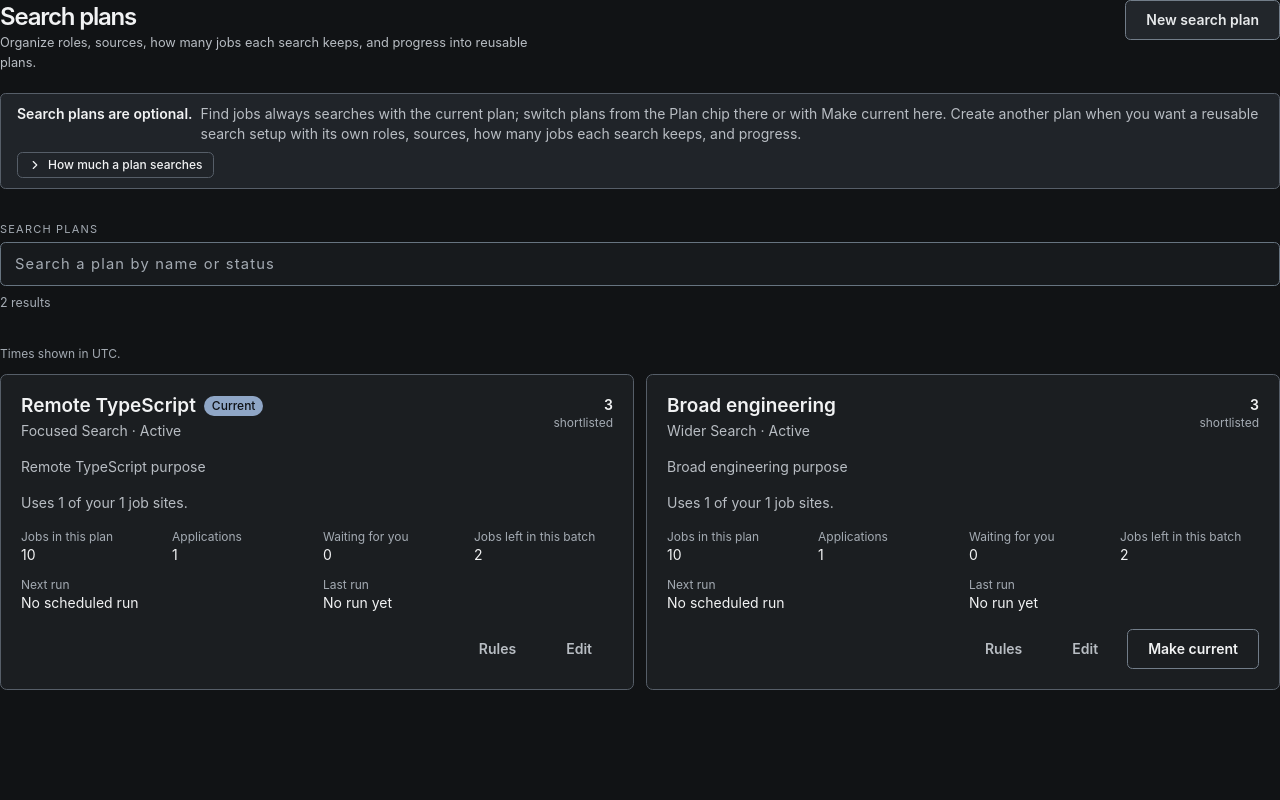
Test: CampaignsScreen › binds the editor to the selected plan when switching between plans
Click the 1st button "Edit" at (579, 649), box [545, 629, 613, 669]
(page scrolled)
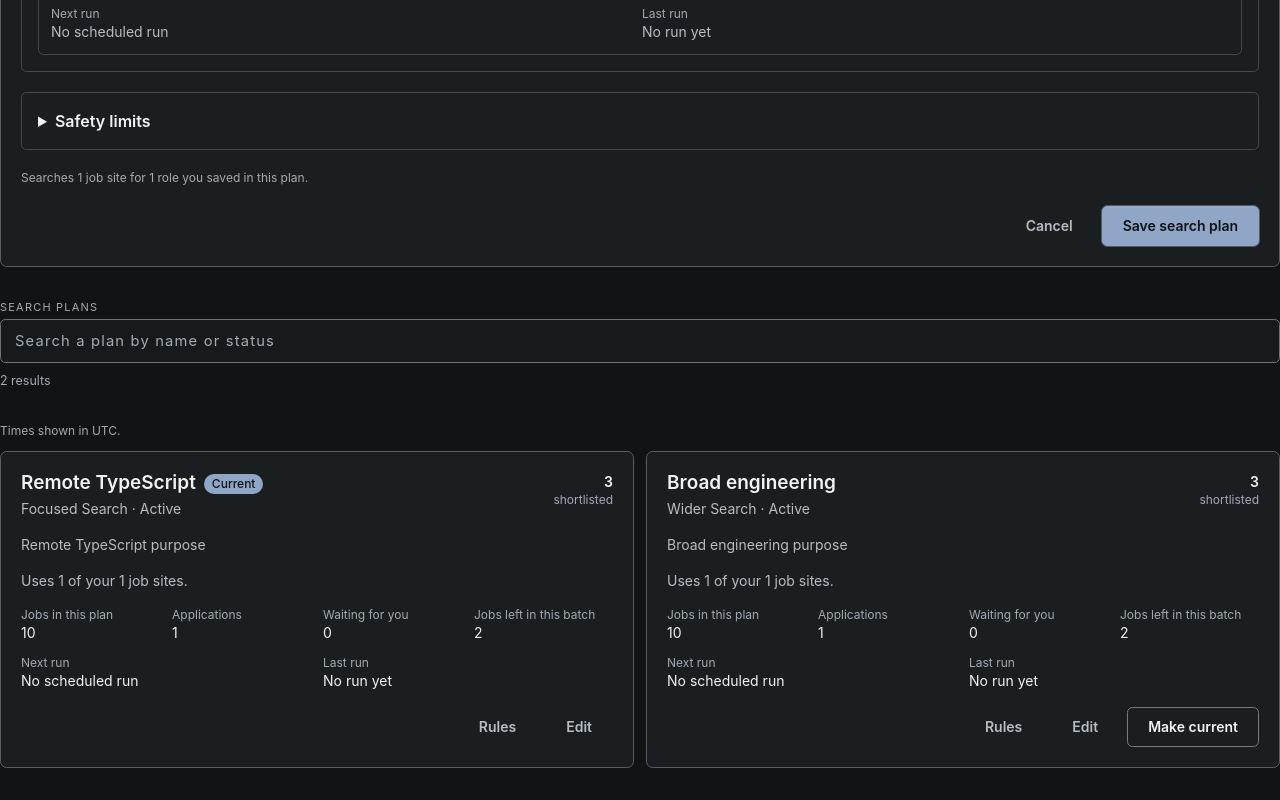
Click the button "Edit" below "Broad engineering purpose" at (1085, 727), box [1051, 707, 1119, 747]
(page scrolled)
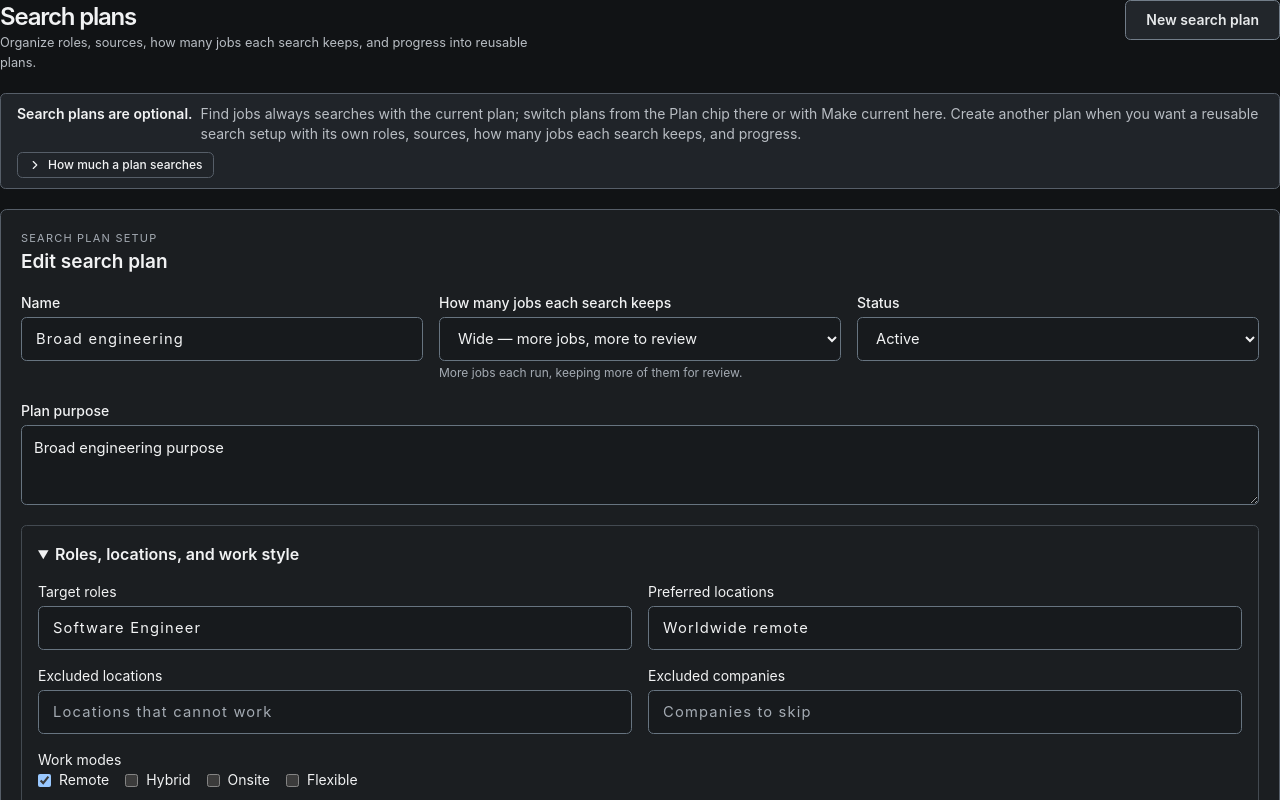
expect the field labelled "Name" holds "Broad engineering": met, box [21, 317, 423, 361]
